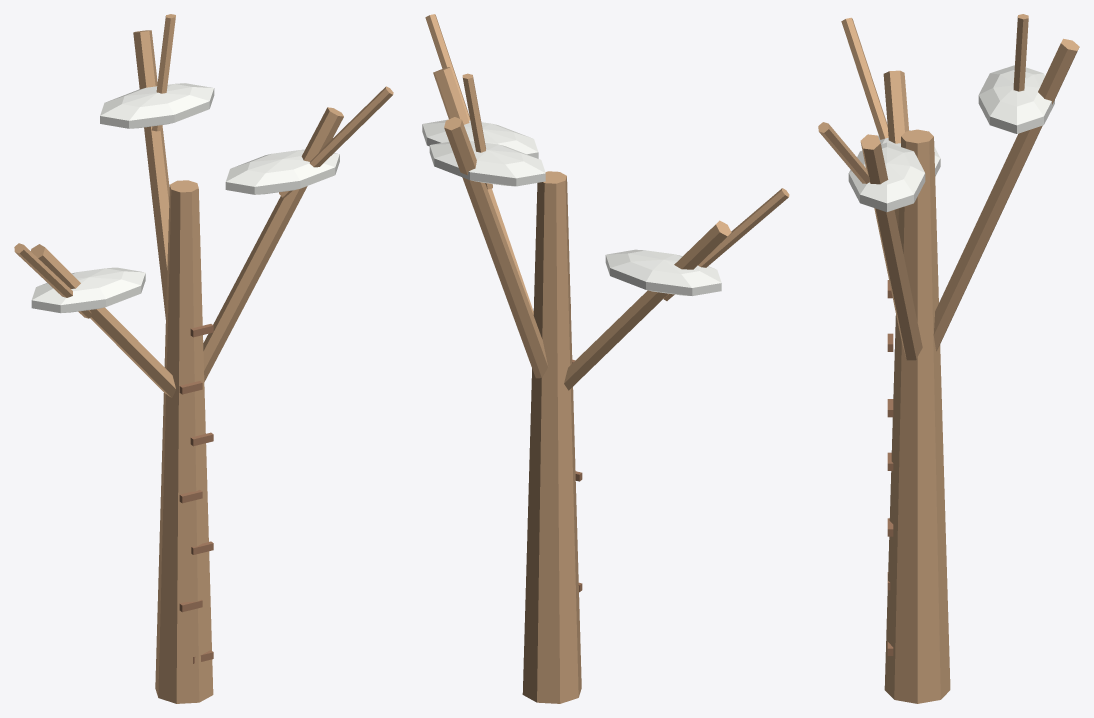
The model's file is birch.glb.
3 views of the same model, side by side, from view 1: azimuth 30°, elevation 25°; view 2: azimuth 150°, elevation 25°; view 3: azimuth 270°, elevation 25° (orthographic). The views are drawn at different scales.
Parts seen in each view (by area): view 1: bare-winter-birch-cedar, bare-winter-birch-snow, bare-winter-birch-wood; view 2: bare-winter-birch-cedar, bare-winter-birch-snow; view 3: bare-winter-birch-cedar, bare-winter-birch-snow, bare-winter-birch-wood.
Part boxes in pixels (box(x1,y1,x2,y2)): bare-winter-birch-cedar: box(14, 14, 393, 703); bare-winter-birch-snow: box(31, 83, 339, 313); bare-winter-birch-wood: box(179, 324, 213, 663); bare-winter-birch-cedar: box(425, 14, 789, 703); bare-winter-birch-snow: box(422, 119, 721, 295); bare-winter-birch-cedar: box(818, 14, 1079, 703); bare-winter-birch-snow: box(848, 65, 1054, 211); bare-winter-birch-wood: box(887, 280, 893, 655).
Size of the model in its own units: 1.98 by 3.25 by 1.11.
